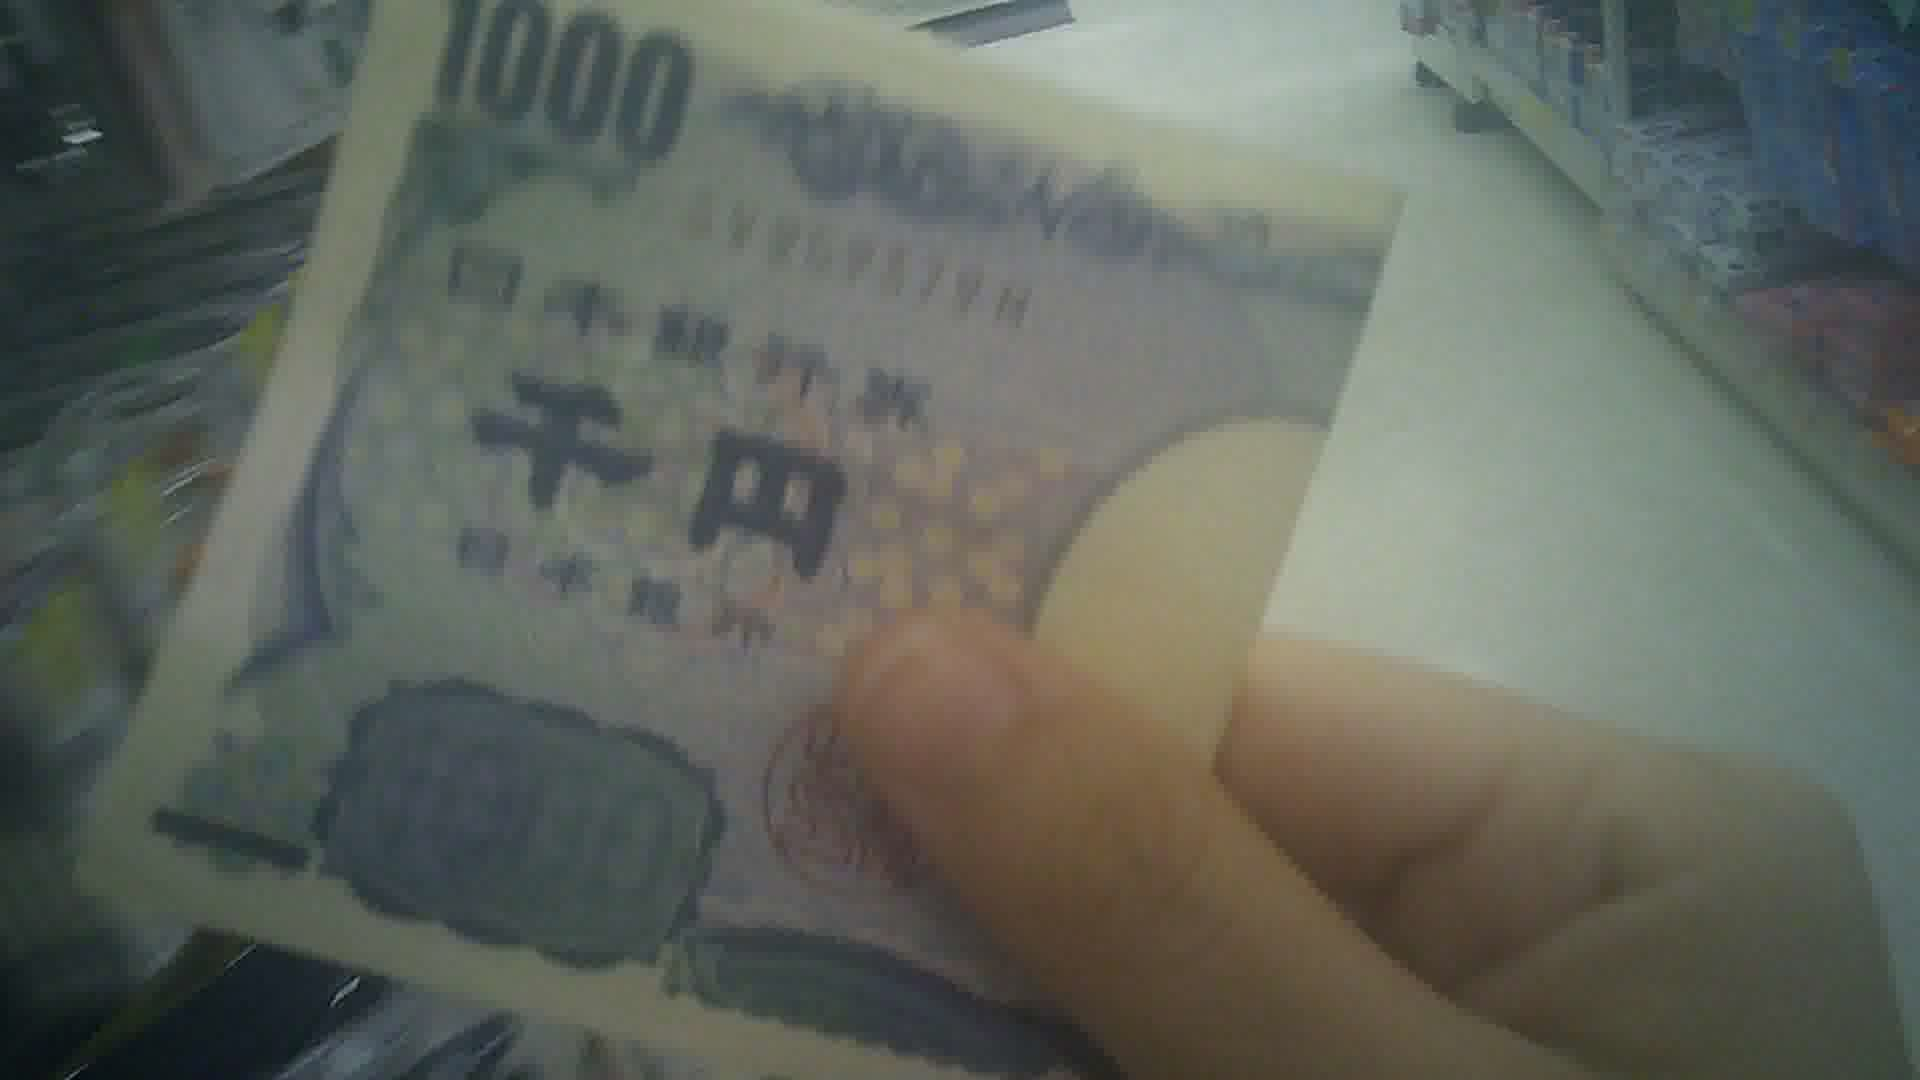1,000 Yen: (129, 1, 1490, 1079)
